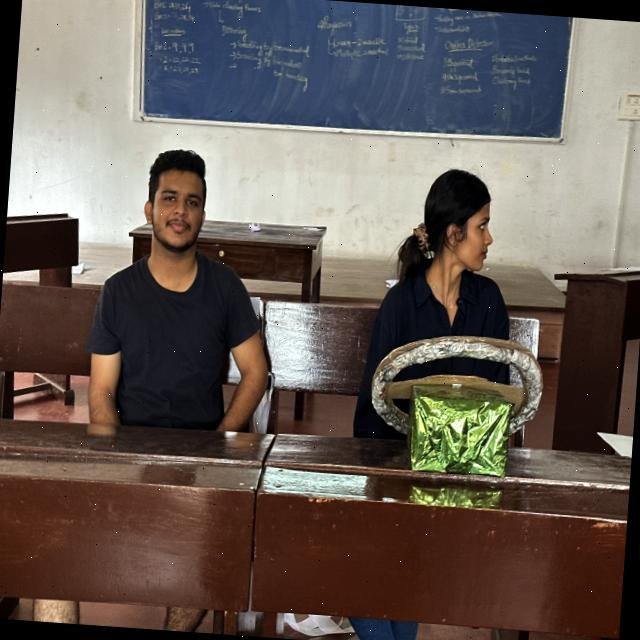no-seatbelt: (75, 258, 282, 450), (362, 268, 532, 448)
